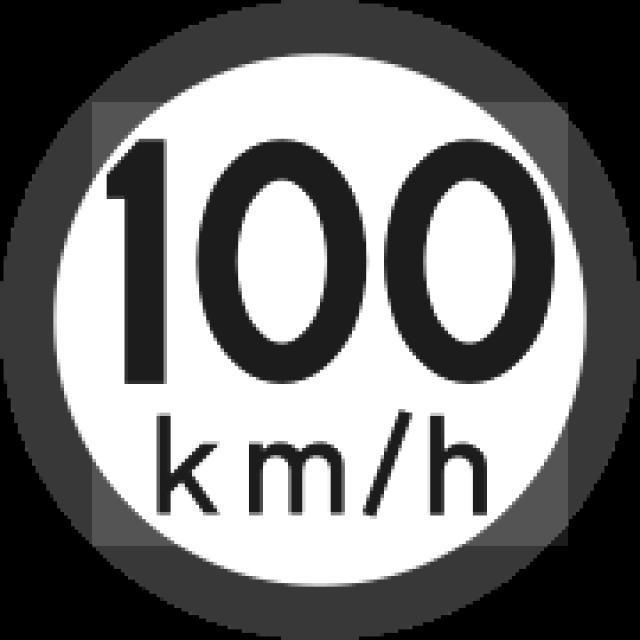speed limit 100: (54, 52, 599, 587)
